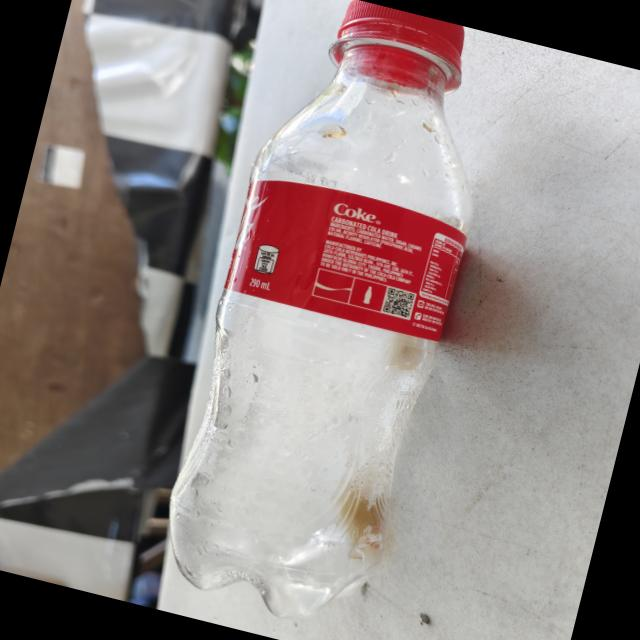Bottle: (169, 0, 470, 617)
